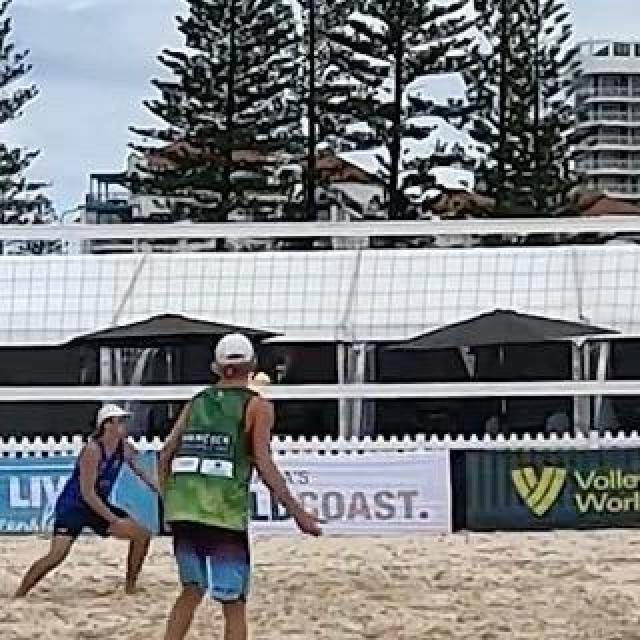volleyball: (240, 370, 274, 408)
